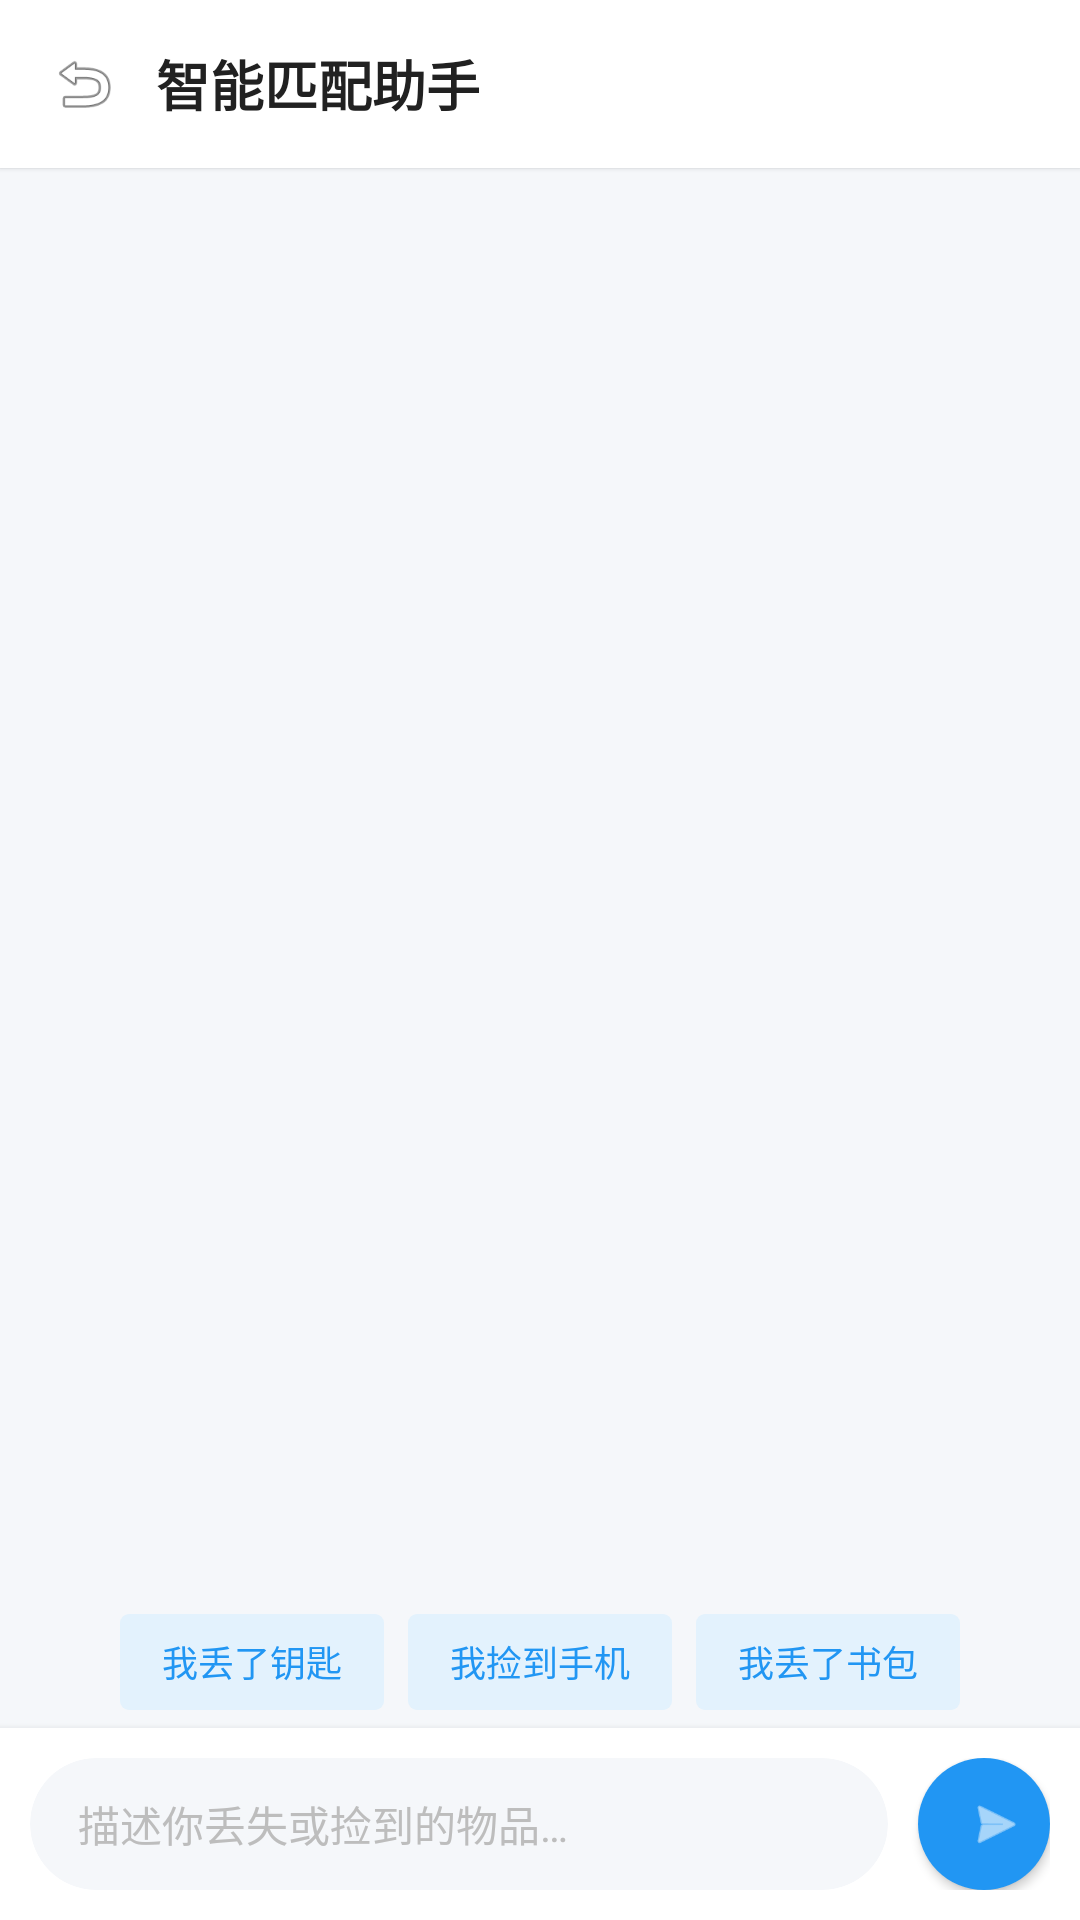

Where to tap for icons on this 1080x1920 app screen, as [x,y]:
back: [85,84]
send: [984,1824]
